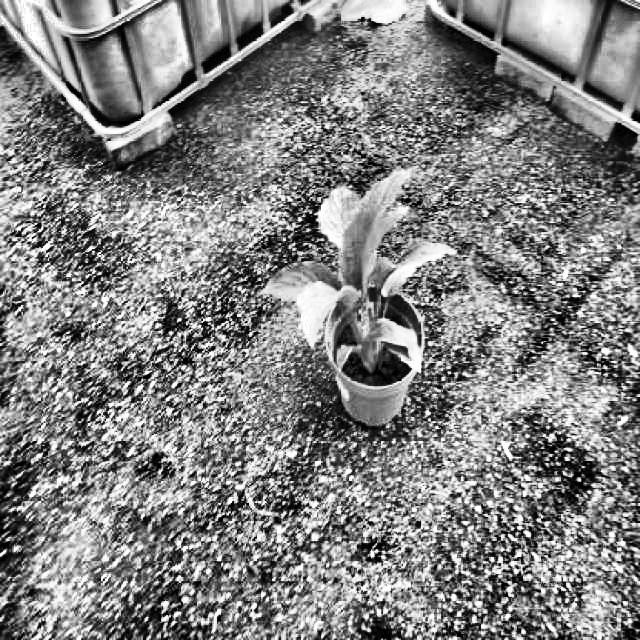plants: (259, 170, 458, 375)
